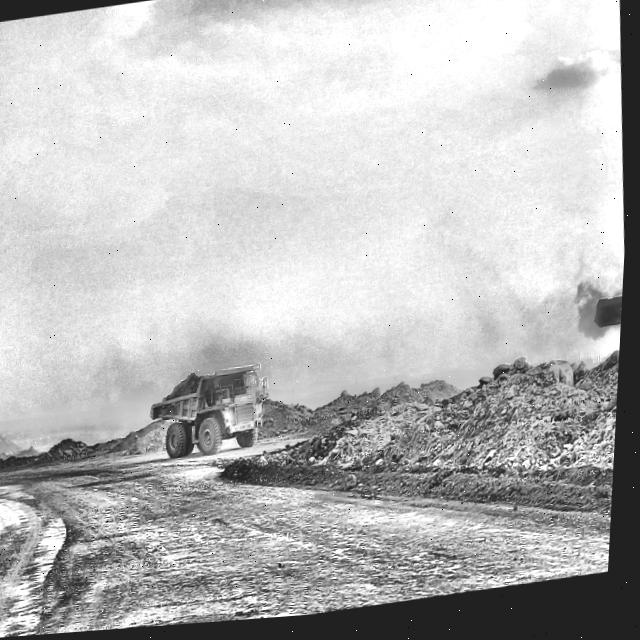dump_truck: (155, 368, 270, 461)
